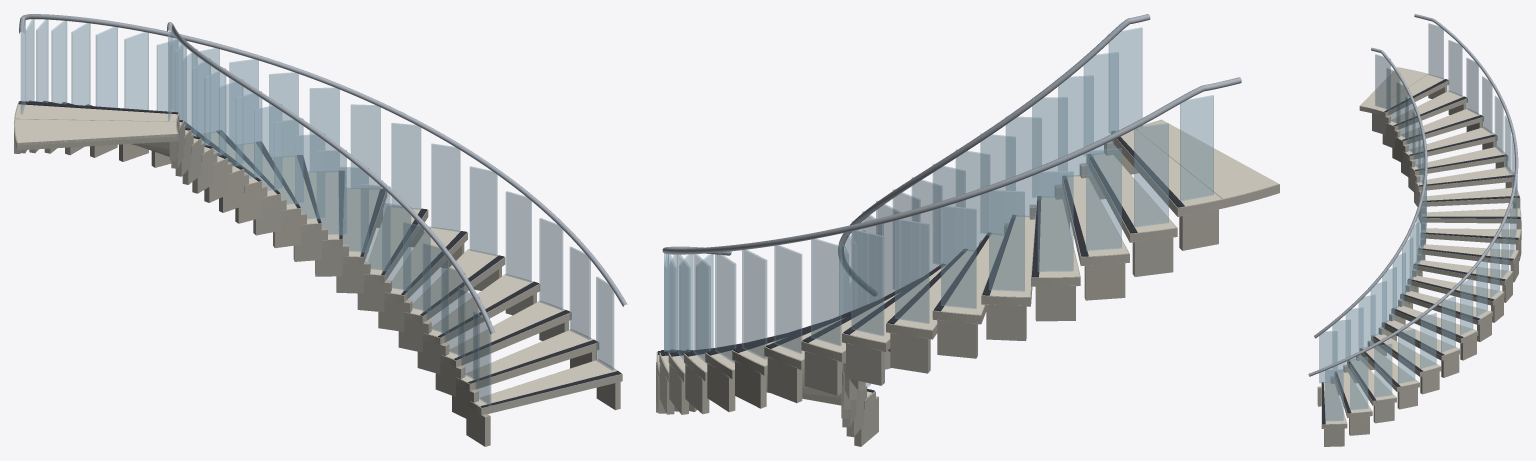
Rendered from staircase_curved.glb.
The picture shows the model from 3 angles, left to right: view 1: azimuth 30°, elevation 25°; view 2: azimuth 150°, elevation 25°; view 3: azimuth 270°, elevation 25°; orthographic projection. The views are drawn at different scales.
Visible parts, largest first — view 1: handrail_outer, arrival_top, handrail_inner, glass_out_06, glass_out_07, glass_out_05, glass_in_07, glass_in_09, glass_in_08, glass_in_10, glass_in_11, glass_out_08 (+63 smaller); view 2: handrail_outer, arrival_top, glass_out_17, glass_out_16, glass_out_15, glass_out_18, glass_out_14, glass_out_19, glass_out_13, glass_out_20, glass_in_20, glass_in_18 (+51 smaller); view 3: handrail_outer, handrail_inner, arrival_top, glass_out_01, glass_out_03, glass_out_02, glass_out_04, glass_out_05, glass_in_02, glass_in_01, glass_in_03, glass_in_04 (+77 smaller).
Boxes of the visible parts, x1=… form: handrail_outer: x1=19, y1=14, x2=627, y2=306; arrival_top: x1=15, y1=119, x2=177, y2=145; handrail_inner: x1=167, y1=22, x2=495, y2=334; glass_out_06: x1=431, y1=143, x2=460, y2=231; glass_out_07: x1=391, y1=123, x2=421, y2=209; glass_out_05: x1=469, y1=166, x2=497, y2=256; glass_in_07: x1=360, y1=184, x2=390, y2=270; glass_in_09: x1=316, y1=150, x2=346, y2=234; glass_in_08: x1=338, y1=167, x2=368, y2=251; glass_in_10: x1=295, y1=133, x2=325, y2=219; glass_in_11: x1=274, y1=118, x2=303, y2=204; glass_out_08: x1=350, y1=104, x2=380, y2=189; handrail_outer: x1=662, y1=77, x2=1241, y2=255; arrival_top: x1=1136, y1=120, x2=1278, y2=198; glass_out_17: x1=1037, y1=171, x2=1073, y2=271; glass_out_16: x1=989, y1=190, x2=1024, y2=291; glass_out_15: x1=941, y1=206, x2=976, y2=308; glass_out_18: x1=1086, y1=148, x2=1121, y2=250; glass_out_14: x1=895, y1=219, x2=929, y2=323; glass_out_19: x1=1134, y1=123, x2=1168, y2=227; glass_out_13: x1=851, y1=230, x2=884, y2=336; glass_out_20: x1=1180, y1=95, x2=1213, y2=201; glass_in_20: x1=1108, y1=27, x2=1142, y2=133; glass_in_18: x1=1058, y1=75, x2=1093, y2=177; handrail_outer: x1=1308, y1=14, x2=1518, y2=376; handrail_inner: x1=1314, y1=47, x2=1427, y2=338; arrival_top: x1=1360, y1=67, x2=1426, y2=108; glass_out_01: x1=1325, y1=369, x2=1343, y2=421; glass_out_03: x1=1374, y1=343, x2=1392, y2=397; glass_out_02: x1=1350, y1=357, x2=1368, y2=410; glass_out_04: x1=1398, y1=329, x2=1415, y2=383; glass_out_05: x1=1420, y1=313, x2=1436, y2=368; glass_in_02: x1=1332, y1=319, x2=1350, y2=371; glass_in_01: x1=1319, y1=331, x2=1337, y2=383; glass_in_03: x1=1345, y1=307, x2=1363, y2=360; glass_in_04: x1=1358, y1=294, x2=1375, y2=349.
Size of the model in its own units: 5.78 by 4.58 by 3.2.
